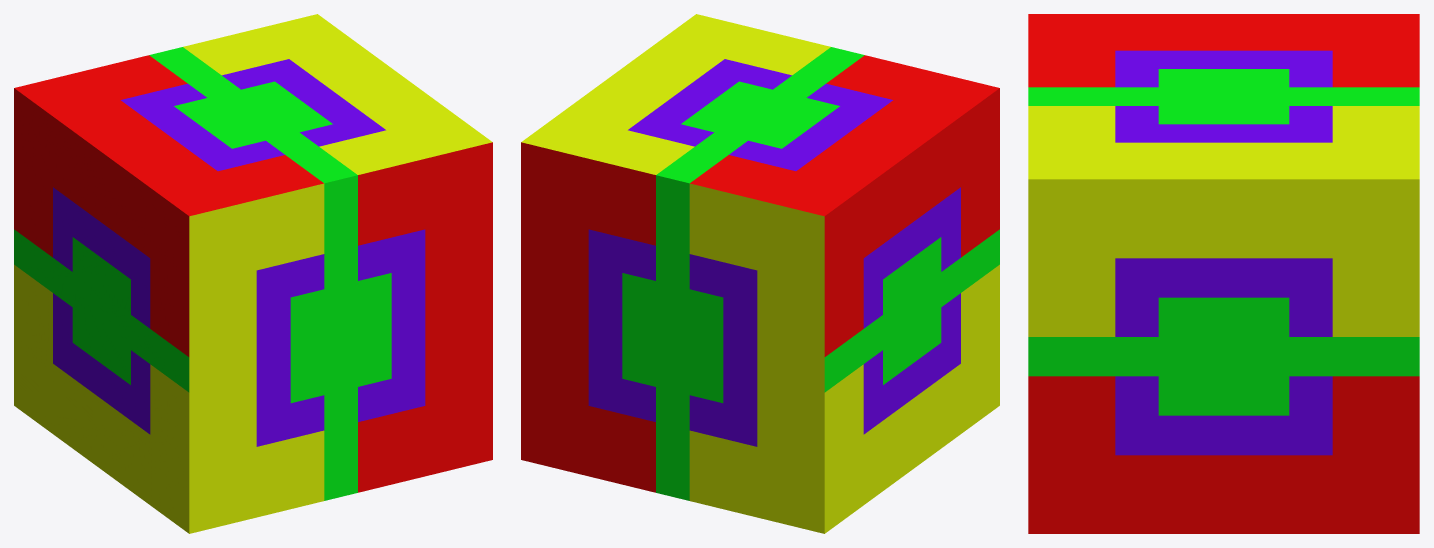
The picture shows the model from 3 angles, left to right: view 1: azimuth 30°, elevation 25°; view 2: azimuth 150°, elevation 25°; view 3: azimuth 270°, elevation 25°; orthographic projection. The views are drawn at different scales.
Visible parts, largest first — view 1: Объект_Куб_6; view 2: Объект_Куб_6; view 3: Объект_Куб_6.
Boxes of the visible parts, <box> form: Объект_Куб_6: <box>14,14,492,533</box>; Объект_Куб_6: <box>521,14,999,533</box>; Объект_Куб_6: <box>1028,14,1419,533</box>.
Size of the model in its own units: 1 by 1 by 1.
